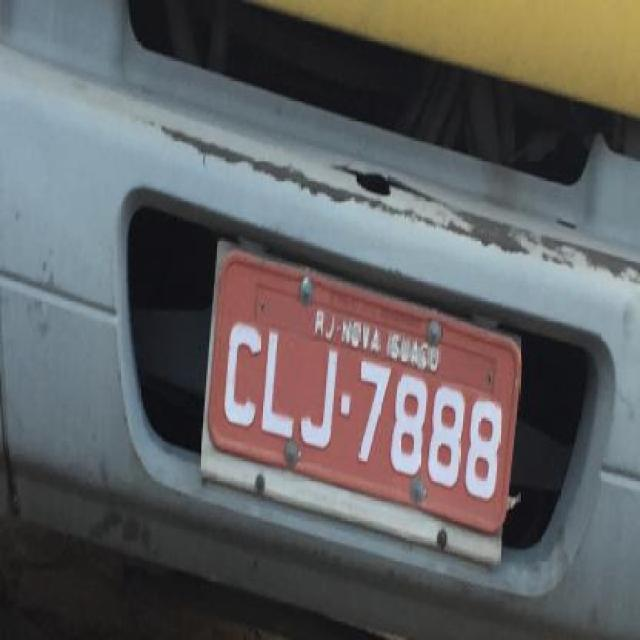old_plate: (201, 244, 527, 540)
